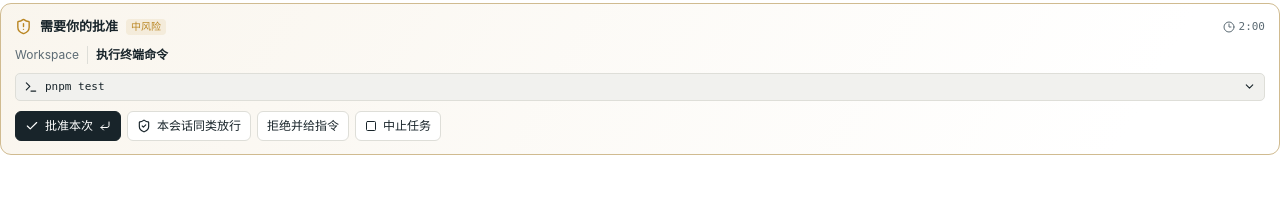
Test: 仅在卡内提交非空纠偏意见后拒绝
Later steps or results of the test are not shown.
Click the button "拒绝并给指令" at (303, 126), box [257,111,349,141]
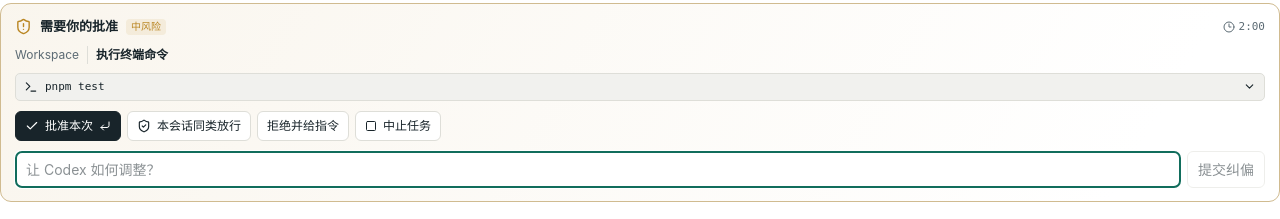
Expected: the button "提交纠偏" is disabled, [1187,151,1265,188]
